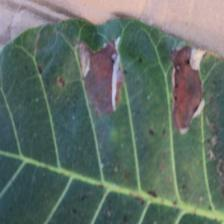leaf miner: (0, 15, 224, 224), (75, 36, 124, 116), (168, 44, 207, 135)
